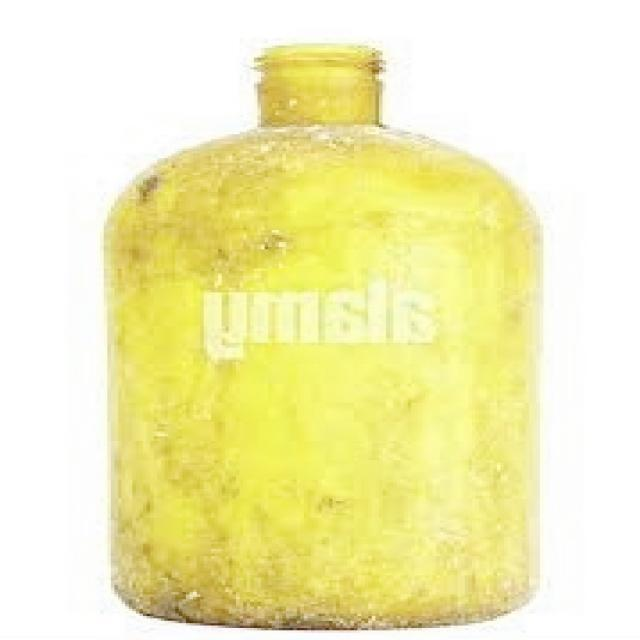HDPE Plastic: (97, 56, 553, 628)
